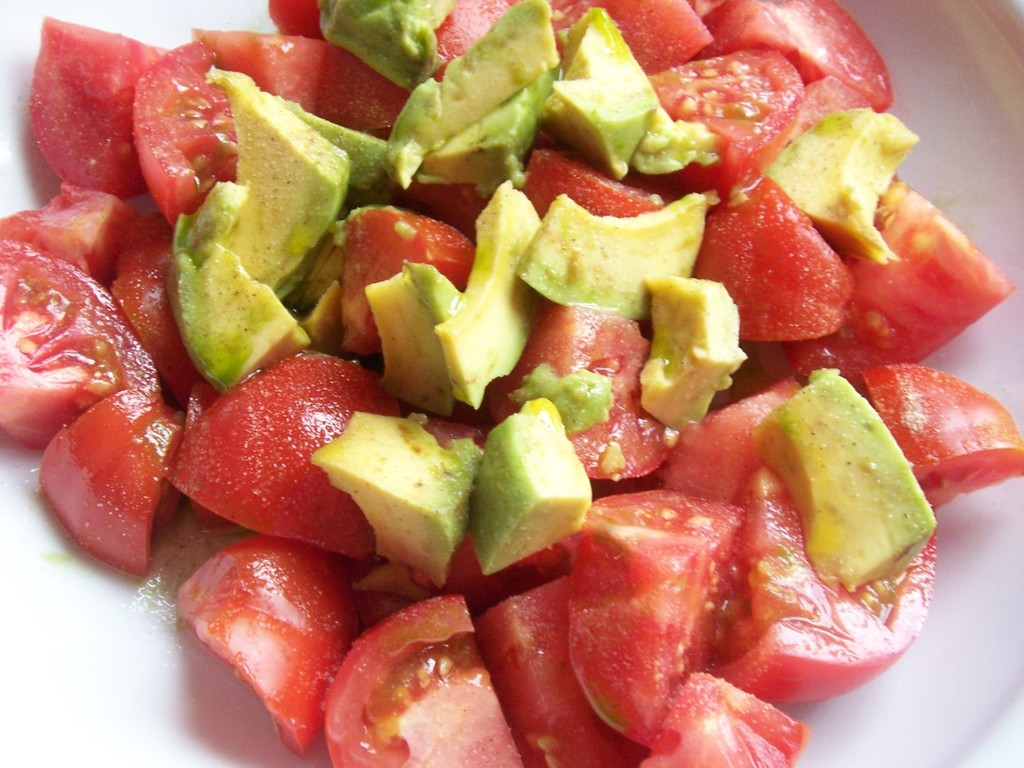Tomato: (0, 0, 1023, 767)
